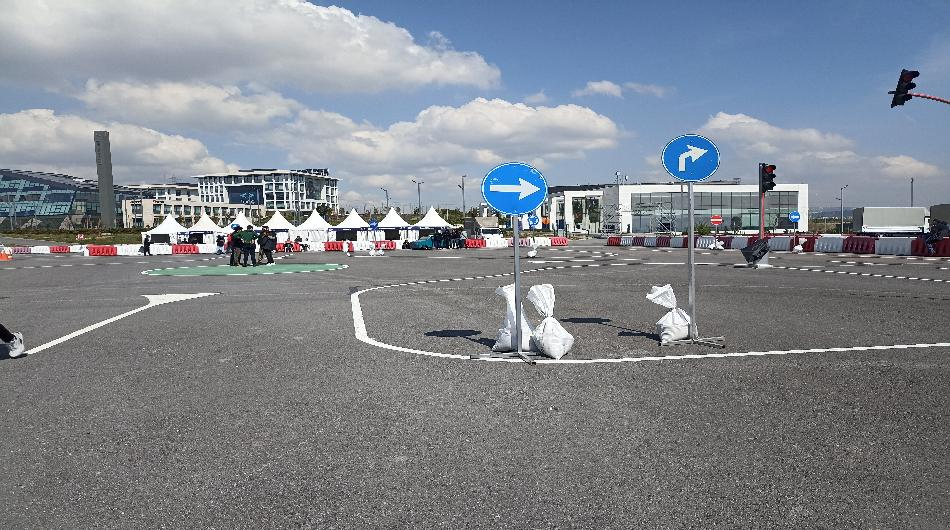saga_mecburi_1: (482, 161, 548, 214)
saga_mecburi_2: (656, 132, 721, 183)
